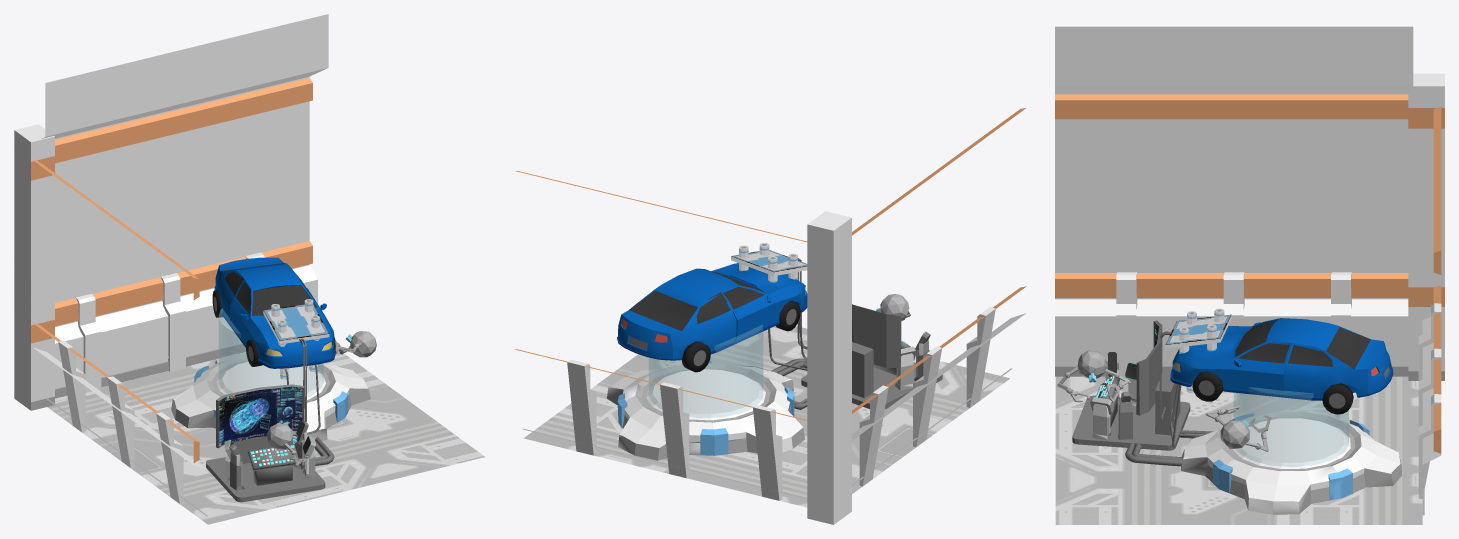
3 renders of one model, left to right at view 1: azimuth 30°, elevation 25°; view 2: azimuth 150°, elevation 25°; view 3: azimuth 270°, elevation 25°, orthographic. The views are drawn at different scales.
Visible parts, largest first — view 1: Wall_4_L.006, Floor.007, wall_M.003, Car.007, Props_Base.001, Wall_4_L.007, Plane.021, forGLSL_4.001, Cube.006, o5.003, Plane.018, Plane.017 (+3 smaller); view 2: Floor.007, wall_M.003, Props_Base.001, Car.007, Wall_4_L.006, Wall_4_L.007, forGLSL_4.001, Plane.021, ties, Plane.020, o5.003, Cube.006 (+1 smaller); view 3: Wall_4_L.007, Floor.007, Props_Base.001, Car.007, wall_M.003, forGLSL_4.001, Wall_4_L.006, Cube.006, Plane.021, ties, o5.003, Plane.020 (+5 smaller).
Part boxes in pixels (box(x1,y1,x2,y2)): Wall_4_L.006: box(41, 14, 328, 398); Floor.007: box(47, 351, 484, 524); wall_M.003: box(14, 124, 54, 410); Car.007: box(214, 257, 335, 368); Props_Base.001: box(171, 353, 370, 440); Wall_4_L.007: box(33, 160, 207, 516); Plane.021: box(216, 384, 304, 448); forGLSL_4.001: box(219, 308, 323, 396); Cube.006: box(206, 457, 325, 502); o5.003: box(263, 304, 329, 344); Plane.018: box(247, 444, 298, 471); Plane.017: box(253, 465, 292, 485); Floor.007: box(523, 326, 1009, 507); wall_M.003: box(807, 211, 851, 524); Props_Base.001: box(607, 361, 804, 460); Car.007: box(617, 263, 807, 360); Wall_4_L.006: box(514, 171, 807, 500); Wall_4_L.007: box(852, 108, 1026, 486); forGLSL_4.001: box(649, 325, 762, 417); Plane.021: box(852, 304, 901, 367); ties: box(681, 301, 800, 372); Plane.020: box(852, 342, 873, 397); o5.003: box(731, 250, 807, 275); Cube.006: box(801, 362, 942, 409); Wall_4_L.007: box(1055, 26, 1413, 378); Floor.007: box(1055, 376, 1422, 524); Props_Base.001: box(1181, 410, 1402, 514); Car.007: box(1170, 318, 1393, 400); wall_M.003: box(1408, 73, 1444, 380); forGLSL_4.001: box(1234, 387, 1348, 466); Wall_4_L.006: box(1418, 106, 1441, 515); Cube.006: box(1072, 395, 1190, 450); Plane.021: box(1136, 320, 1162, 415); ties: box(1192, 371, 1353, 414); o5.003: box(1165, 314, 1231, 348); Plane.020: box(1155, 368, 1180, 435).
Size of the model in its own units: 0.6653 by 0.7118 by 0.698.
35 materials, 4 textured.
